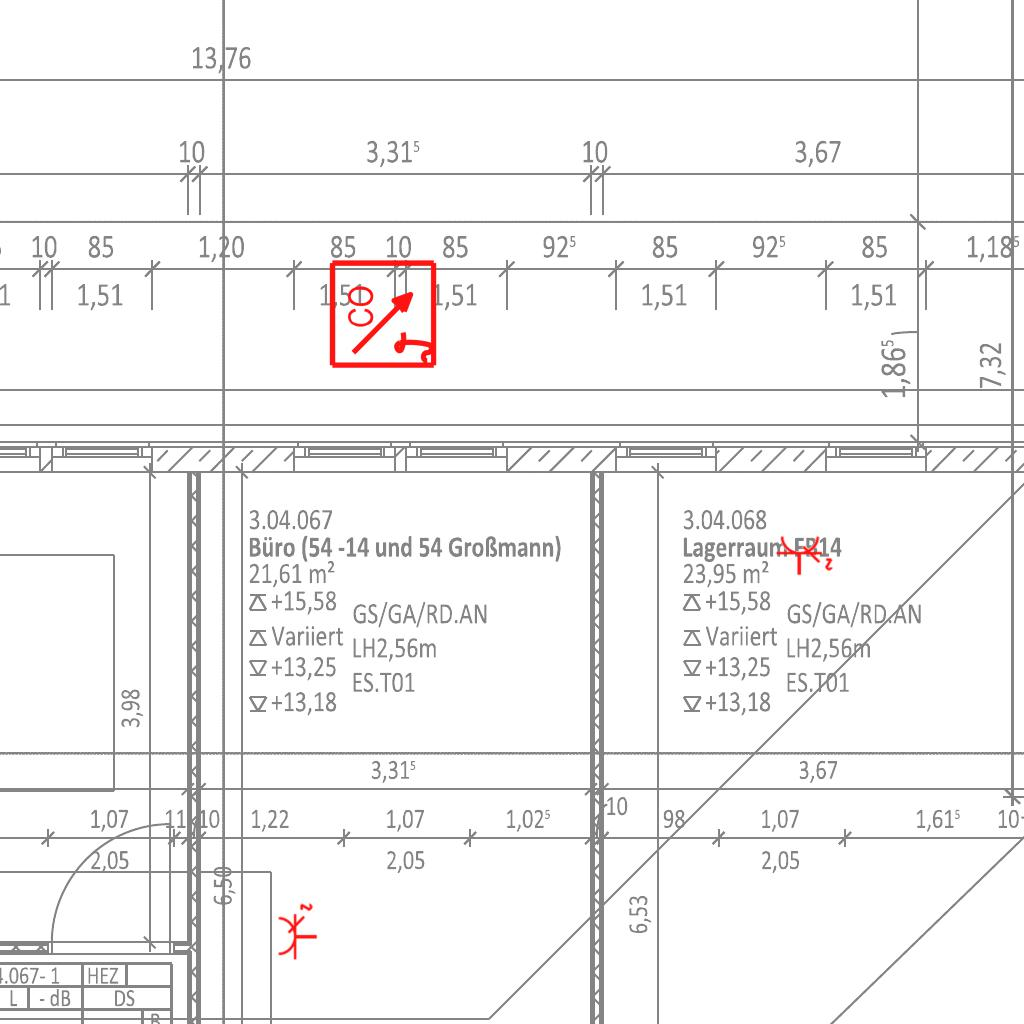ROA_Rauchmelder_optisch_mit_Signalgeber_(Sockelsirene): (328, 257, 441, 370)
Schukosteckdose_mehrfach: (276, 902, 320, 962), (774, 534, 834, 578)
